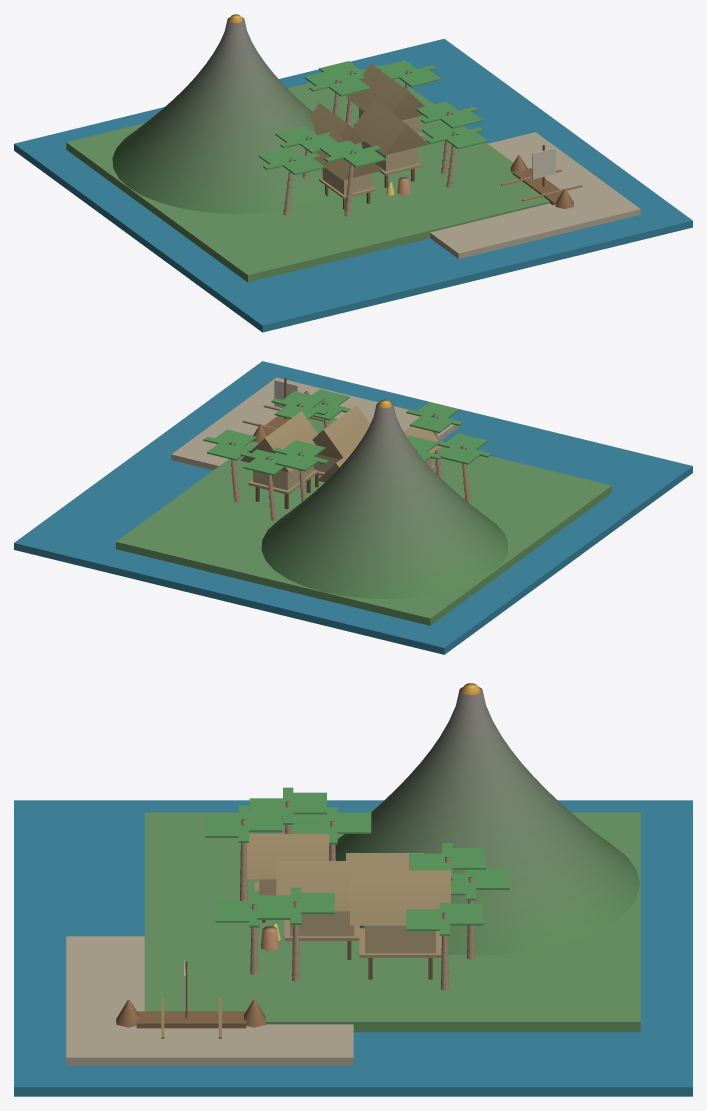
File: ancient_bikol_precolonial.gltf
3 renders of one model, top to bottom at view 1: azimuth 30°, elevation 25°; view 2: azimuth 150°, elevation 25°; view 3: azimuth 270°, elevation 25°, orthographic. The views are drawn at different scales.
Parts seen in each view (by area): view 1: Ibalong_Settlement_Diorama; view 2: Ibalong_Settlement_Diorama; view 3: Ibalong_Settlement_Diorama.
Boxes of the visible parts, <box> form: Ibalong_Settlement_Diorama: <box>14,14,692,332</box>; Ibalong_Settlement_Diorama: <box>14,361,692,654</box>; Ibalong_Settlement_Diorama: <box>14,683,692,1096</box>.
Size of the model in its own units: 26 by 9.2 by 26.
